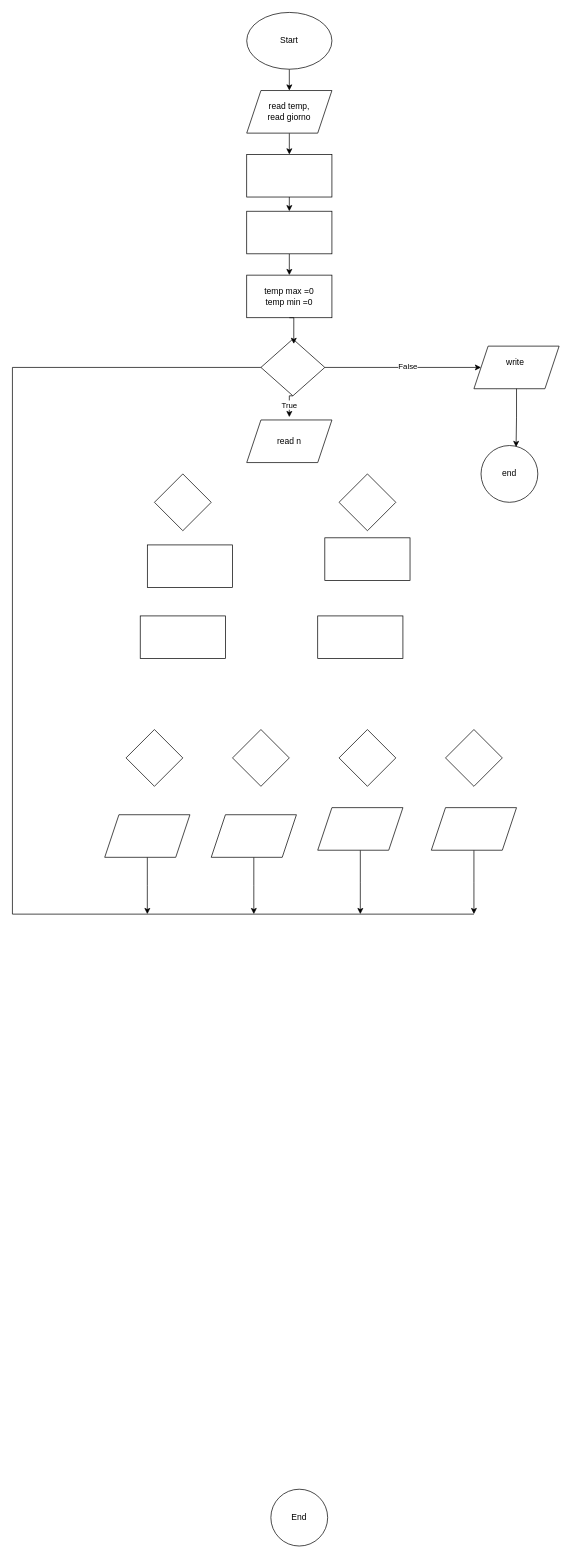
The diagram is 572 pixels wide and 1558 high, and some of its shapes have lost their labels. The box of each missing label's shape, as (x1, y1, x2, y2) in pixels:
g<=7: (260, 338, 325, 396)
temp =0 giorno =0: (246, 154, 332, 197)
temp media =0: (246, 211, 332, 254)
